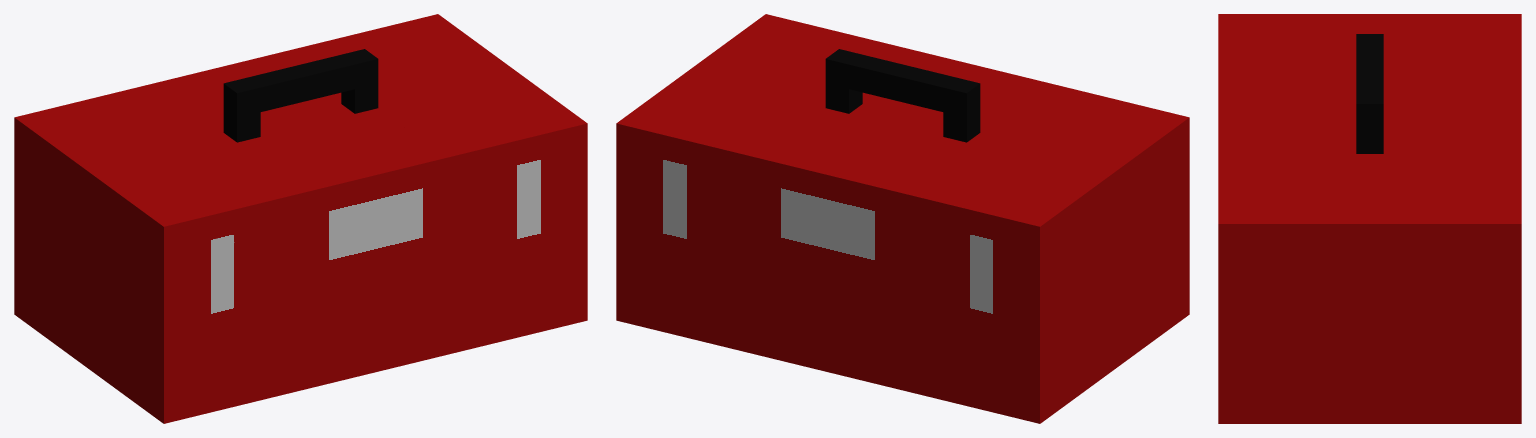
The model's file is Toolbox.dae.
3 renders of one model, left to right at view 1: azimuth 30°, elevation 25°; view 2: azimuth 150°, elevation 25°; view 3: azimuth 270°, elevation 25°, orthographic.
Visible parts, largest first — view 1: Matrix; view 2: Matrix; view 3: Matrix.
Part boxes in pixels (x1,y1,x2,y2): Matrix: [14, 14, 587, 423]; Matrix: [616, 14, 1189, 423]; Matrix: [1218, 14, 1521, 423].
Size of the model in its own units: 18 by 10 by 11.
1 material, 1 textured.
